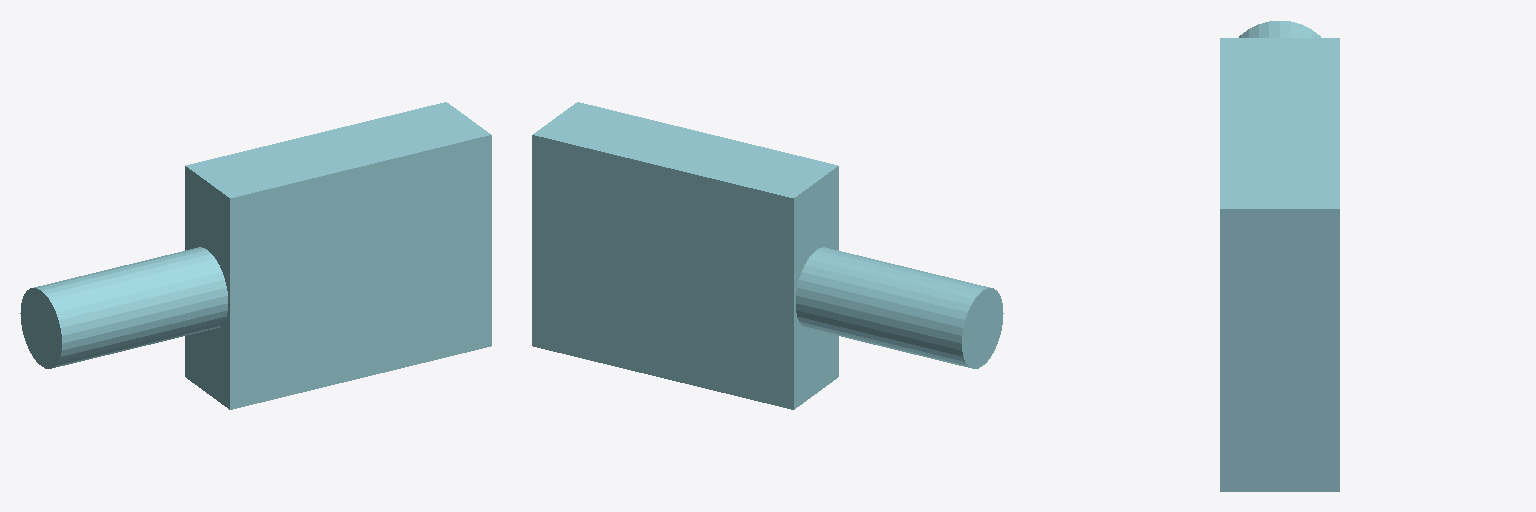
robot.urdf — cylinder_brush_v9015:
<?xml version="1.0"?>
<robot name="cylinder_brush_v9015">

  <link name="cylinder_brush_v9015">
    <!-- Handle -->
    <visual>
      <origin xyz="0 0 0" rpy="0 1.5707963267948966 0"/>
      <geometry>
        <cylinder length="0.06497937157410943" radius="0.014087947341628583"/>
      </geometry>
      <material name="material">
        <color rgba="0.639 0.847 0.882 1.0"/>
      </material>
    </visual>
    <collision>
      <origin xyz="0 0 0" rpy="0 1.5707963267948966 0"/>
      <geometry>
        <cylinder length="0.06497937157410943" radius="0.014087947341628583"/>
      </geometry>
    </collision>

    <!-- Head -->
    <visual>
      <origin xyz="0.08351569856582253 0 0" rpy="0 0 0"/>
      <geometry>
        <box size="0.10205202555753563 0.030462801891638927 0.07896123168536398"/>
      </geometry>
      <material name="material">
        <color rgba="0.639 0.847 0.882 1.0"/>
      </material>
    </visual>
    <collision>
      <origin xyz="0.08351569856582253 0 0" rpy="0 0 0"/>
      <geometry>
        <box size="0.10205202555753563 0.030462801891638927 0.07896123168536398"/>
      </geometry>
    </collision>

    <inertial>
      <density value="400.0"/>
    </inertial>
  </link>

</robot>

--- Render facts (derived) ---
Views: 3 orthographic renders of the robot side by side, from view 1: azimuth 30°, elevation 25°; view 2: azimuth 150°, elevation 25°; view 3: azimuth 270°, elevation 25°.
Model cylinder_brush_v9015 with 1 links and 0 joints (none), rooted at cylinder_brush_v9015, posed all joints at 0.
Links seen in each view (by area): view 1: cylinder_brush_v9015; view 2: cylinder_brush_v9015; view 3: cylinder_brush_v9015.
Link boxes in pixels (bbox=[...]): cylinder_brush_v9015: bbox=[20, 102, 491, 409]; cylinder_brush_v9015: bbox=[532, 102, 1003, 409]; cylinder_brush_v9015: bbox=[1220, 21, 1339, 491].
Bounding box of the posed robot: 0.167 × 0.0305 × 0.079 m (x, y, z).
Geometry: primitives only (box / cylinder / sphere), no mesh files.
